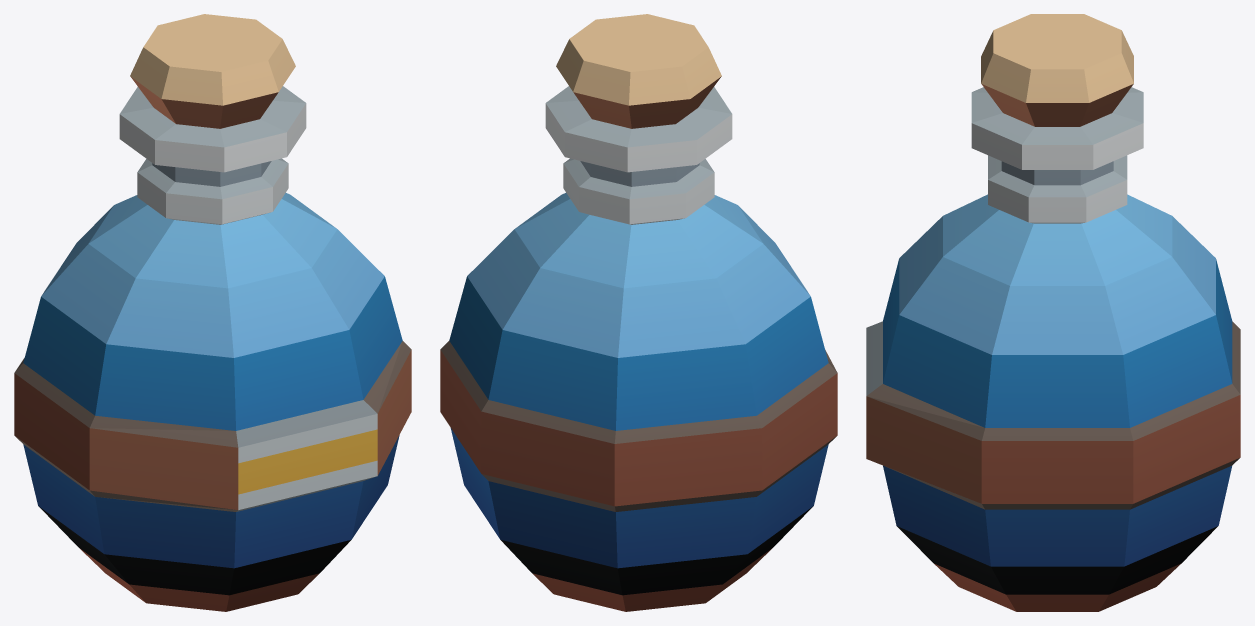
Rendered from source.glb.
The picture shows the model from 3 angles, left to right: view 1: azimuth 30°, elevation 25°; view 2: azimuth 150°, elevation 25°; view 3: azimuth 270°, elevation 25°; orthographic projection.
Parts seen in each view (by area): view 1: model; view 2: model; view 3: model.
Boxes of the visible parts, left/top/right/bottom form: model: left=14, top=14, right=411, bottom=611; model: left=440, top=14, right=837, bottom=611; model: left=866, top=14, right=1240, bottom=611.
Size of the model in its own units: 0.72 by 1.12 by 0.72.
1 material, 1 textured.
